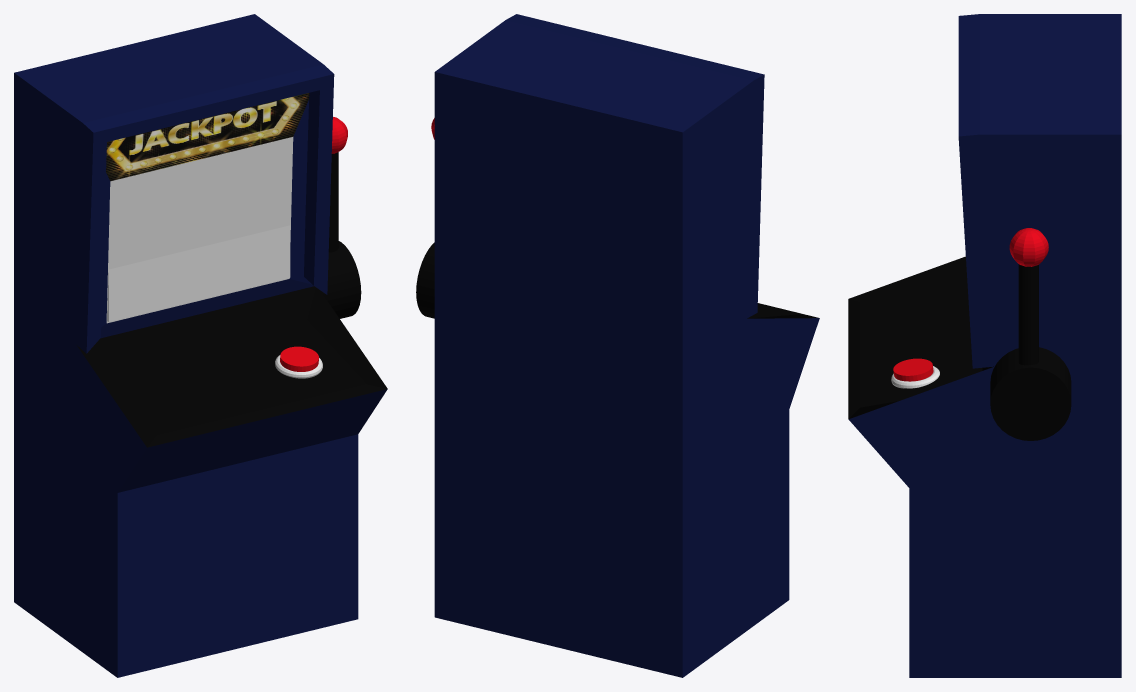
File: Tragaperrasmorada.glb
3 renders of one model, left to right at view 1: azimuth 30°, elevation 25°; view 2: azimuth 150°, elevation 25°; view 3: azimuth 270°, elevation 25°, orthographic. The views are drawn at different scales.
Visible parts, largest first — view 1: perraAzul, pantallaAzul, manillaAzul, bolaPalancaAzul, botonAzul; view 2: perraAzul, manillaAzul; view 3: perraAzul, manillaAzul, bolaPalancaAzul, botonAzul, Toroide.001.
Part boxes in pixels (box(x1,y1,x2,y2)): perraAzul: box(14, 14, 387, 677); pantallaAzul: box(107, 225, 290, 321); manillaAzul: box(320, 241, 361, 318); bolaPalancaAzul: box(328, 117, 347, 252); botonAzul: box(280, 346, 318, 371); perraAzul: box(434, 14, 819, 677); manillaAzul: box(416, 242, 434, 318); perraAzul: box(848, 14, 1121, 677); manillaAzul: box(990, 347, 1071, 440); bolaPalancaAzul: box(1009, 228, 1048, 365); botonAzul: box(893, 358, 933, 381); Toroide.001: box(891, 366, 939, 388).
Bounding box in the file's own units: 22.07 × 39.03 × 17.77.
7 materials, 1 textured.
